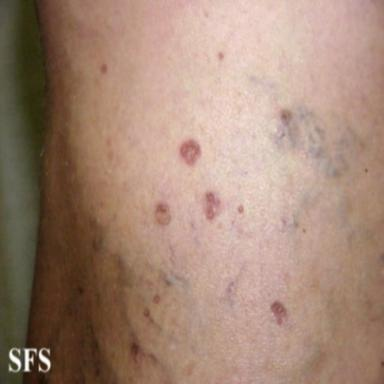Porokeratosis: (203, 190, 223, 222), (181, 140, 200, 165), (155, 202, 172, 225), (271, 301, 287, 325), (280, 109, 292, 125), (131, 343, 139, 356), (143, 308, 150, 317), (154, 295, 160, 304)
